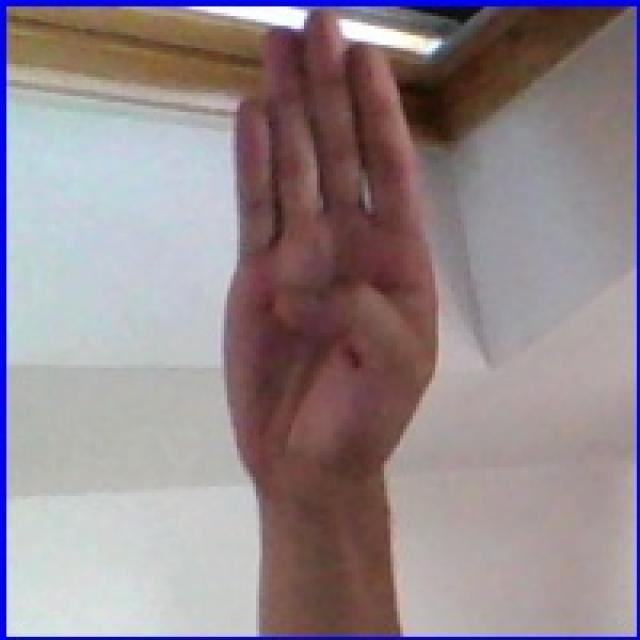Letra B: (207, 16, 457, 524)
